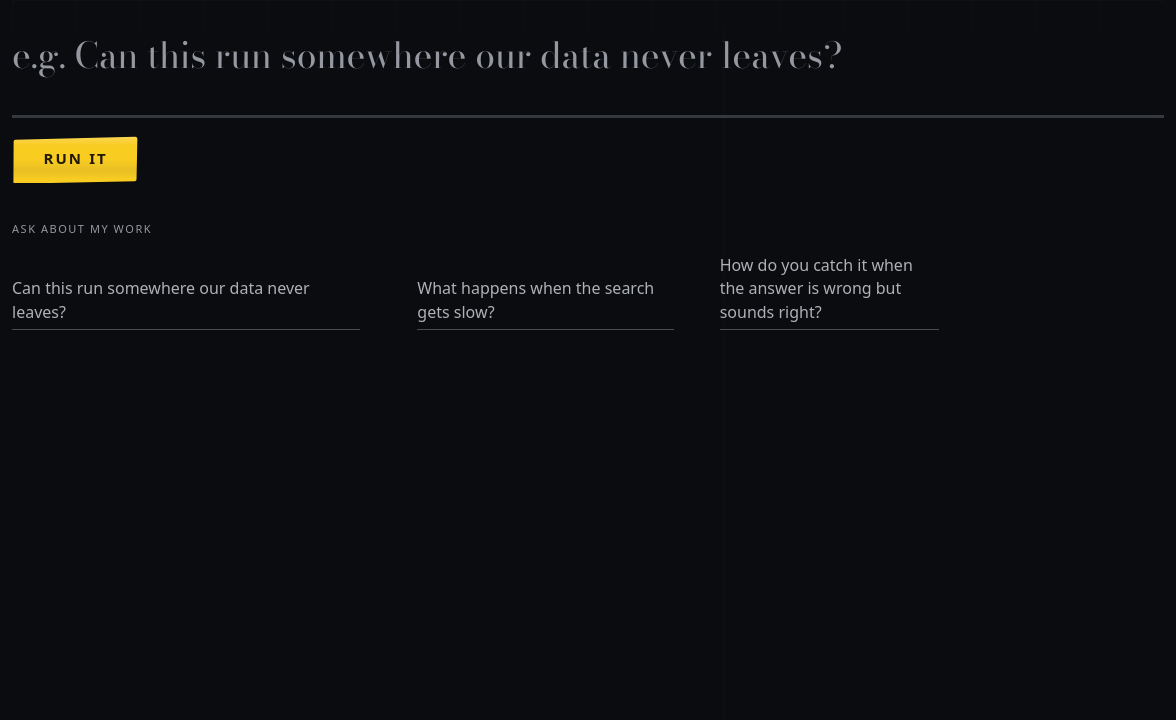
IntakeDesk › parks the form while a turn is running
In the text box named "Your question": (588, 74) [12,29,1164,118], type "Our agents ship unreviewed code."
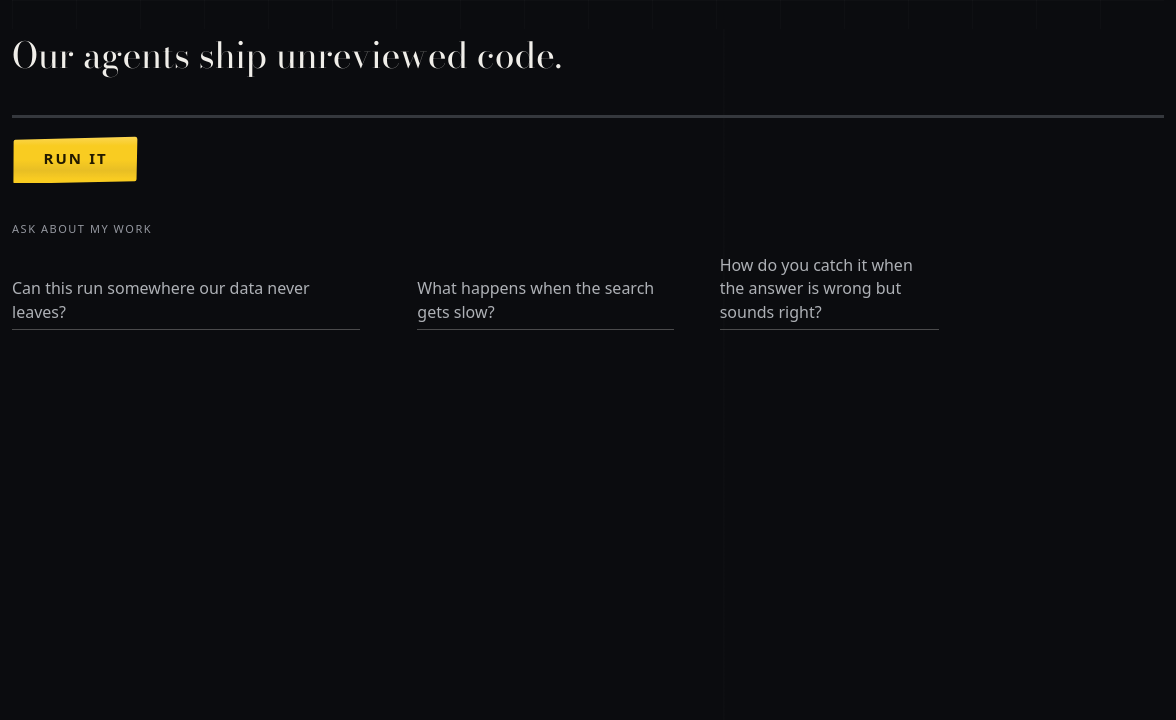
Click the button "Run it": (76, 158) [12,133,139,184]
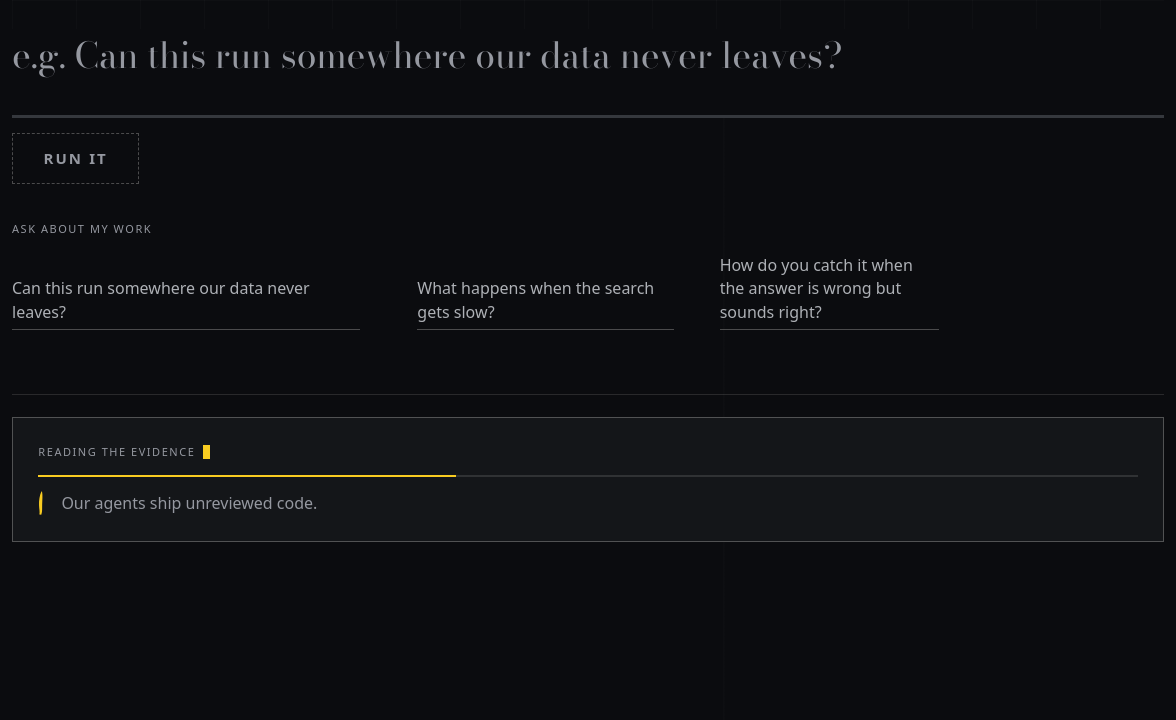
expect the button "Run it" is disabled: met, box [12,133,139,184]
